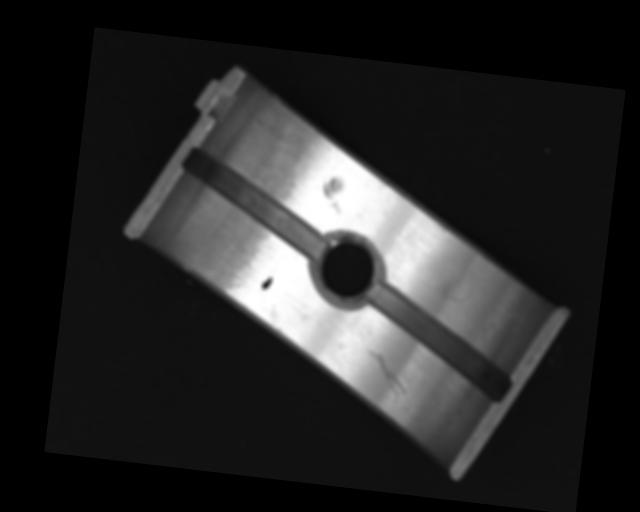blot: (261, 275, 272, 291)
bruise: (319, 173, 345, 216)
gap: (358, 279, 522, 402), (172, 145, 334, 259)
hole: (310, 232, 388, 309)
nick: (364, 347, 412, 398), (442, 291, 469, 302)
